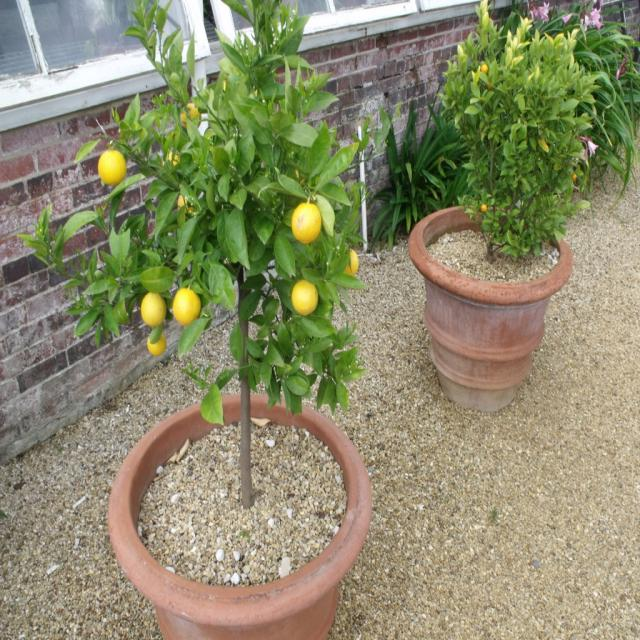Lemon: (293, 202, 322, 245), (290, 279, 320, 318), (174, 289, 202, 326), (97, 152, 127, 184), (141, 292, 168, 326), (179, 104, 203, 132), (146, 334, 168, 356), (345, 246, 360, 277), (178, 194, 195, 216), (166, 150, 181, 168)
